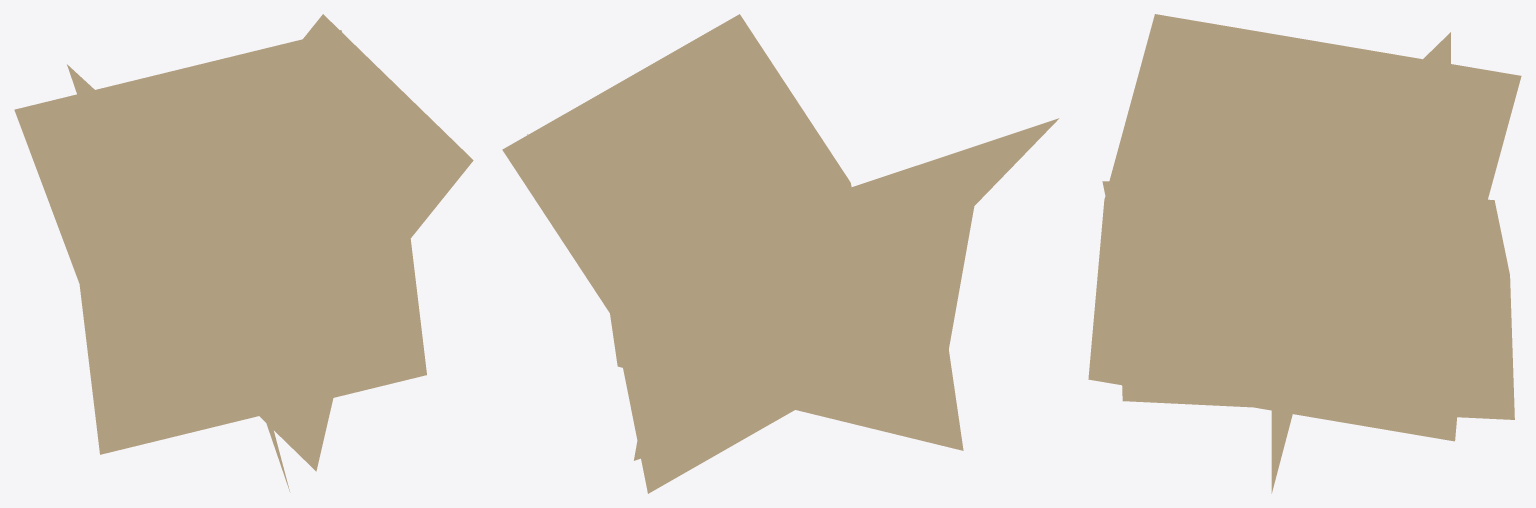
The model's file is GrassPlanes_b_TwoS_05.fbx.
The picture shows the model from 3 angles, left to right: view 1: azimuth 30°, elevation 25°; view 2: azimuth 150°, elevation 25°; view 3: azimuth 270°, elevation 25°; orthographic projection. The views are drawn at different scales.
Visible parts, largest first — view 1: GrassPlanes_b_TwoS_05; view 2: GrassPlanes_b_TwoS_05; view 3: GrassPlanes_b_TwoS_05.
Part boxes in pixels (x1,y1,x2,y2): GrassPlanes_b_TwoS_05: [14, 14, 473, 492]; GrassPlanes_b_TwoS_05: [502, 14, 1059, 493]; GrassPlanes_b_TwoS_05: [1088, 14, 1521, 493].
Size of the model in its own units: 0.803 by 0.5941 by 0.7899.
